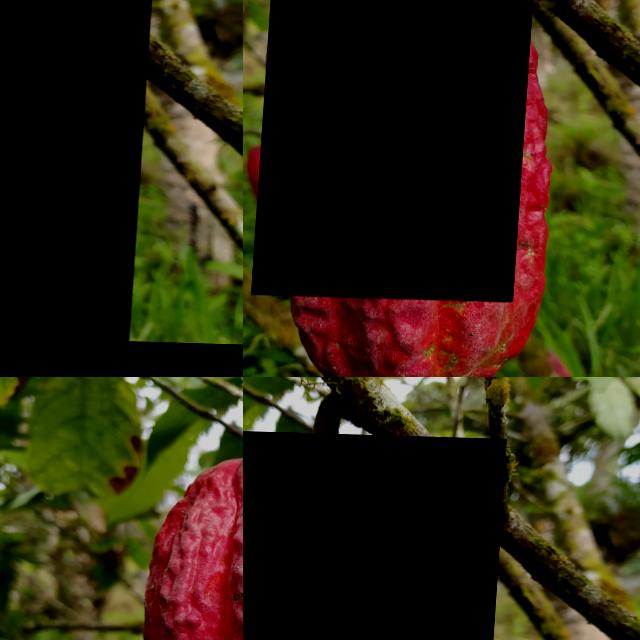Sana: (258, 0, 539, 299), (0, 0, 158, 377), (243, 429, 508, 640), (121, 337, 243, 377)
